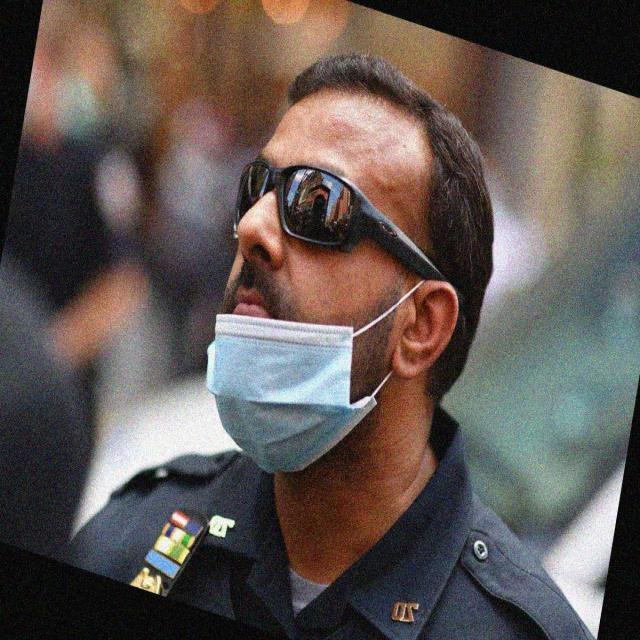hairnet: (191, 100, 468, 448)
